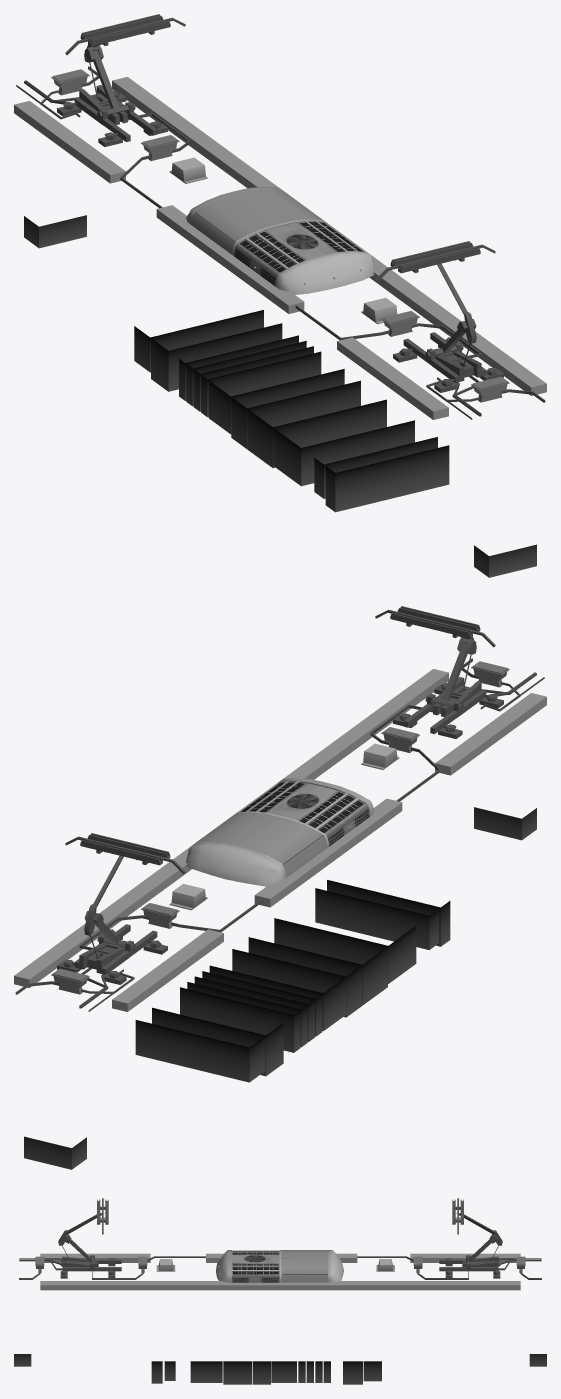
Rendered from KQ_PANTA.glb.
The picture shows the model from 3 angles, top to bottom: view 1: azimuth 30°, elevation 25°; view 2: azimuth 150°, elevation 25°; view 3: azimuth 270°, elevation 25°; orthographic projection. The views are drawn at different scales.
Visible parts, largest first — view 1: Body; view 2: Body; view 3: Body.
Boxes of the visible parts, x1,y1,x2,y2 form: Body: (14,14,546,577); Body: (14,606,546,1169); Body: (14,1198,546,1384).
Size of the model in its own units: 5.49 by 12.17 by 37.06.
3 materials, 3 textured.
